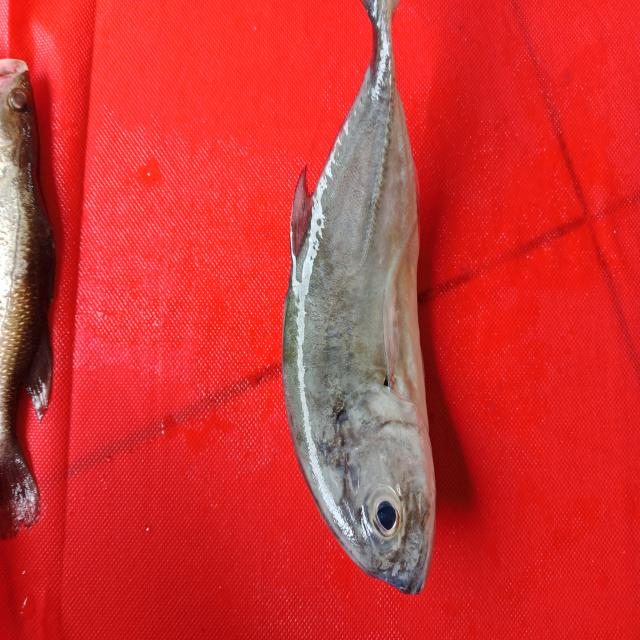ikan: (260, 9, 462, 602), (3, 28, 82, 529)
